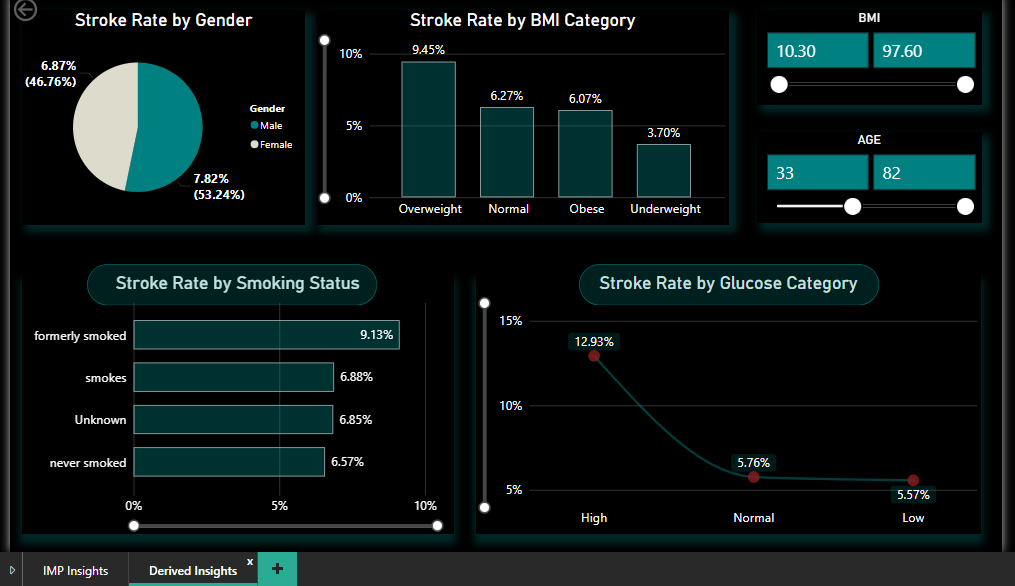

The page's visual inventory and layout, read from the dashboard file:
{"tool":"powerbi","page":{"name":"Derived Insights","canvas":[1280,720],"ordinal":1},"visuals":[{"type":"pieChart","fields":{"Y":["Health Data.Stroke_Rate"],"Category":["Health Data.Gender"]},"box":[15,20,365,276.7],"z":0},{"type":"clusteredColumnChart","fields":{"Y":["Health Data.Stroke_Rate"],"Category":["Health Data.BMI_Category"]},"box":[395,20,533.3,276.7],"z":1000},{"type":"slicer","title":"AGE","fields":{"Values":["Health Data.Age"]},"box":[963.3,178.3,290,118.3],"z":2000},{"type":"slicer","title":"BMI","fields":{"Values":["Health Data.Body Mass Index"]},"box":[963.3,20,290,121.7],"z":10000},{"type":"lineChart","fields":{"Category":["Health Data.Glucose Category"],"Y":["Health Data.Stroke_Rate"]},"box":[601.7,360,651.7,336.7],"z":11000},{"type":"actionButton","box":[0,0,100,40],"z":12000},{"type":"clusteredBarChart","fields":{"Category":["Health Data.Smoking Status"],"Y":["Health Data.Stroke_Rate"]},"box":[15,360,556.7,336.7],"z":13000},{"type":"shape","box":[734.5,348.4,387.5,53.5],"z":14000},{"type":"shape","box":[99.8,348.4,374.5,53.5],"z":15000}]}

Visuals, with their boxes on the page's 1280x720 design canvas (x1, y1, x2, y2). These are canvas units, not pixel positions in the 1015x586 screenshot, which may show the page scaled, cropped or inside an application window:
pieChart - Health Data.Stroke_Rate x Health Data.Gender: x1=15 y1=20 x2=380 y2=297
clusteredColumnChart - Health Data.Stroke_Rate x Health Data.BMI_Category: x1=395 y1=20 x2=928 y2=297
"AGE" slicer: x1=963 y1=178 x2=1253 y2=297
"BMI" slicer: x1=963 y1=20 x2=1253 y2=142
lineChart - Health Data.Glucose Category x Health Data.Stroke_Rate: x1=602 y1=360 x2=1253 y2=697
actionButton: x1=0 y1=0 x2=100 y2=40
clusteredBarChart - Health Data.Smoking Status x Health Data.Stroke_Rate: x1=15 y1=360 x2=572 y2=697
shape: x1=734 y1=348 x2=1122 y2=402
shape: x1=100 y1=348 x2=474 y2=402
